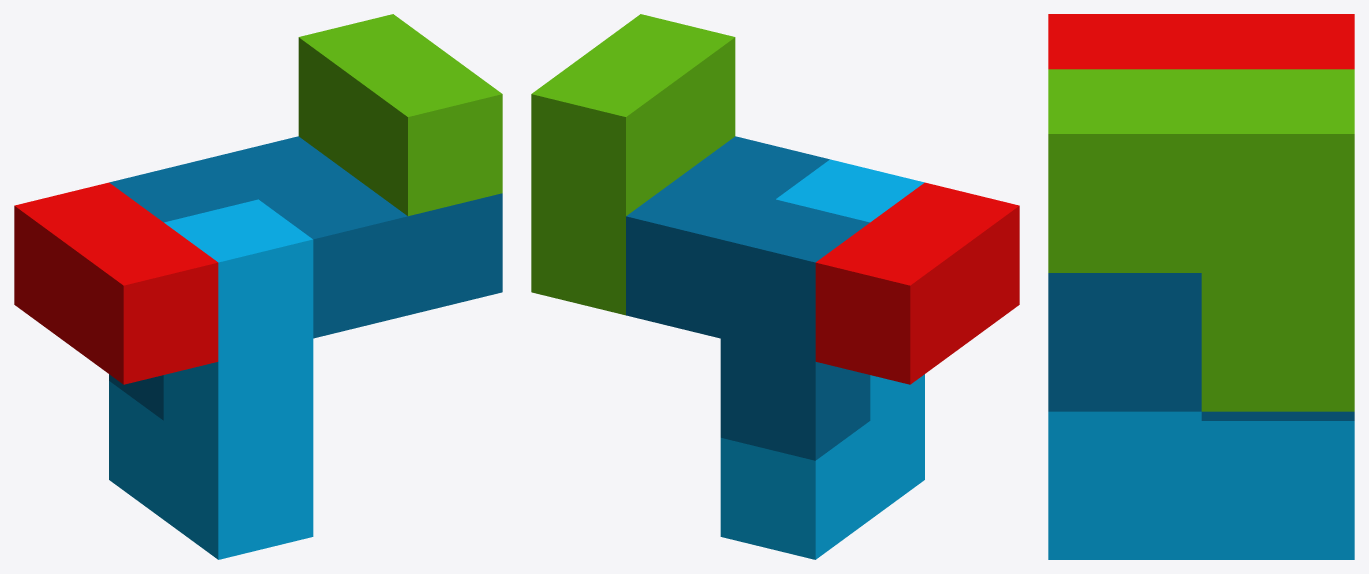
The picture shows the model from 3 angles, left to right: view 1: azimuth 30°, elevation 25°; view 2: azimuth 150°, elevation 25°; view 3: azimuth 270°, elevation 25°; orthographic projection. The views are drawn at different scales.
Parts seen in each view (by area): view 1: mergedBlocks(Clone); view 2: mergedBlocks(Clone); view 3: mergedBlocks(Clone).
Boxes of the visible parts, x1,y1,x2,y2 form: mergedBlocks(Clone): (14, 14, 502, 559); mergedBlocks(Clone): (531, 14, 1019, 559); mergedBlocks(Clone): (1048, 14, 1354, 559).
Bounding box in the file's own units: 4 × 4 × 2.
4 materials, 4 textured.
